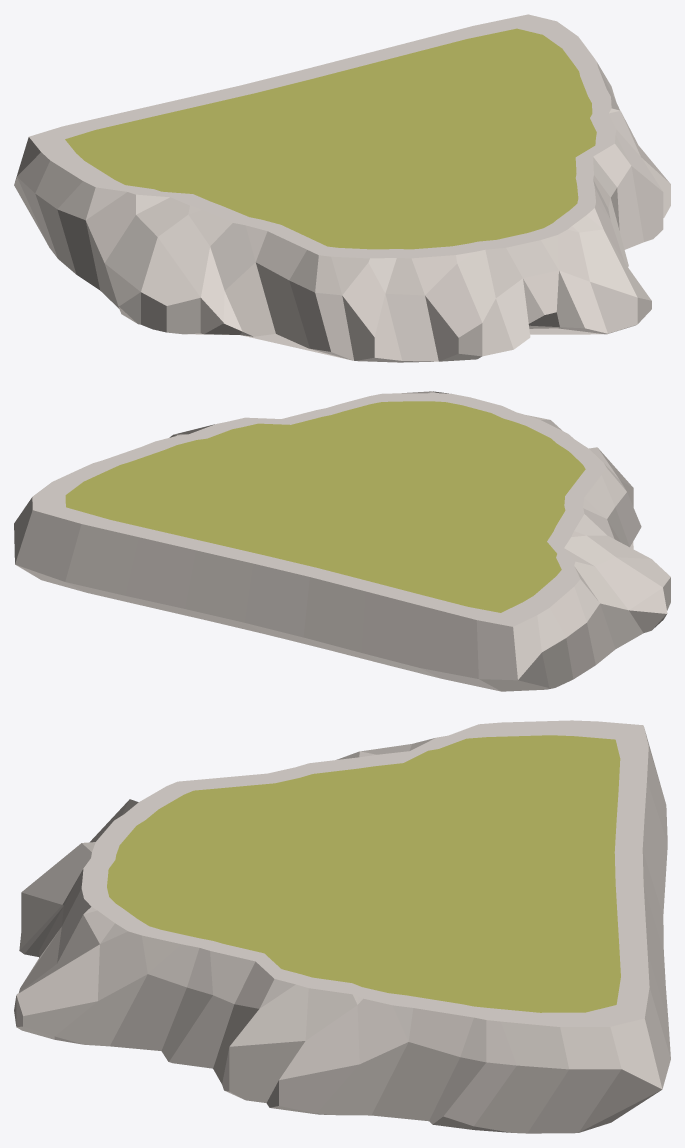
Rendered from ridge2.fbx.
The picture shows the model from 3 angles, top to bottom: view 1: azimuth 30°, elevation 25°; view 2: azimuth 150°, elevation 25°; view 3: azimuth 270°, elevation 25°; orthographic projection. The views are drawn at different scales.
Visible parts, largest first — view 1: ridge2_LOD0; view 2: ridge2_LOD0; view 3: ridge2_LOD0.
Boxes of the visible parts, box(x1,y1,x2,y2) form: ridge2_LOD0: box(14, 14, 670, 362); ridge2_LOD0: box(14, 391, 670, 691); ridge2_LOD0: box(14, 720, 670, 1133).
Size of what is drawn, in the model's own units: 3836 by 548 by 3218.
